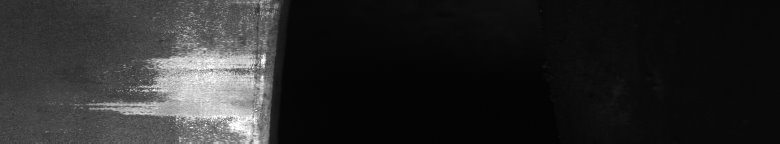kb: (70, 12, 256, 136)
